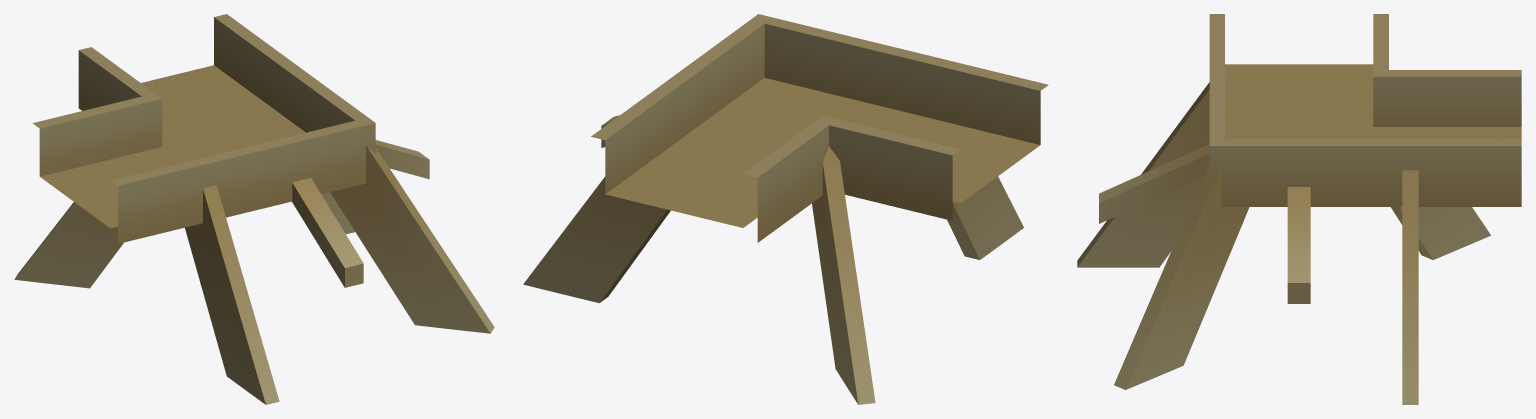
Rendered from aquaduct_piped3.glb.
The picture shows the model from 3 angles, left to right: view 1: azimuth 30°, elevation 25°; view 2: azimuth 150°, elevation 25°; view 3: azimuth 270°, elevation 25°; orthographic projection. The views are drawn at different scales.
Parts seen in each view (by area): view 1: AquaductPiped3; view 2: AquaductPiped3; view 3: AquaductPiped3.
Part boxes in pixels (x1,y1,x2,y2): AquaductPiped3: (14, 14, 494, 404); AquaductPiped3: (523, 14, 1048, 404); AquaductPiped3: (1077, 14, 1521, 404).
Bounding box in the file's own units: 2 × 1.01 × 2.
Materials: 1 (1 with a texture image).
